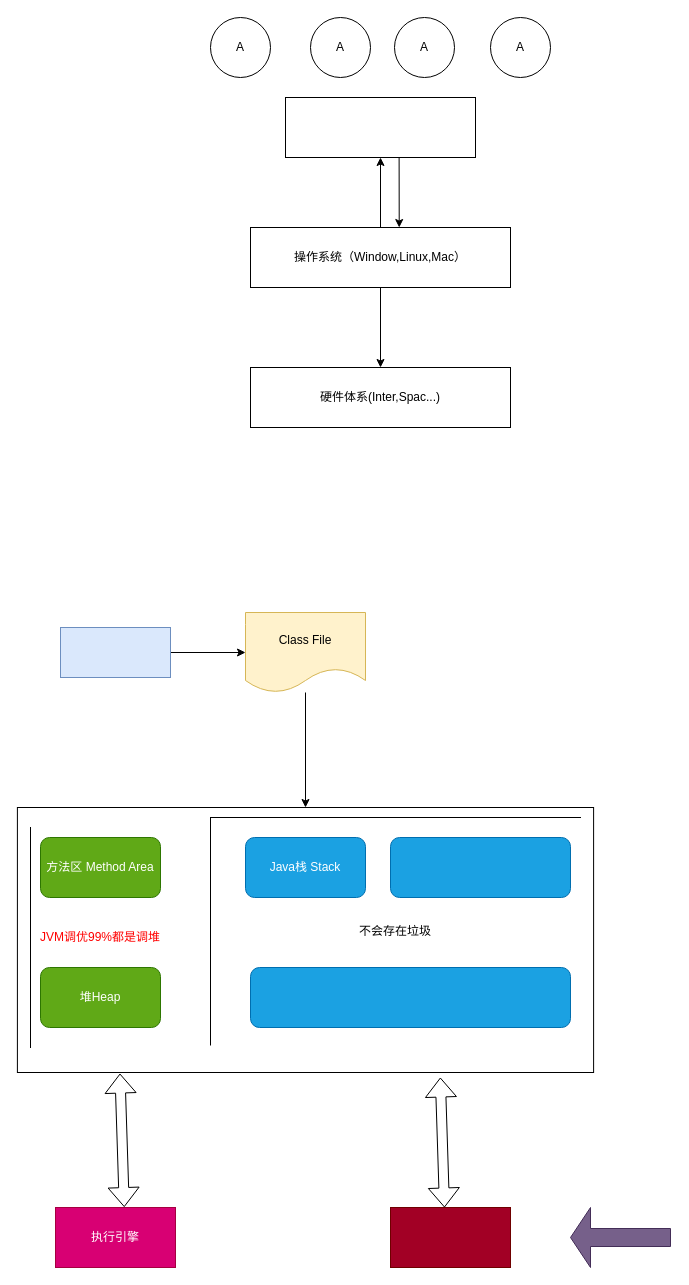
The diagram is 689 pixels wide and 1285 high, and some of its shapes have lost their labels. Here are the shapes that lost their labels. From the top down, the centre of each, then its label:
At (380,127): "JRE---JVM".
At (115,652): "xx.java文件".
At (480,867): "本地方法栈 Native Method Stack".
At (410,997): "程序计数器".
At (450,1237): "本地方法接口".
At (620,1237): "本地方法库".
